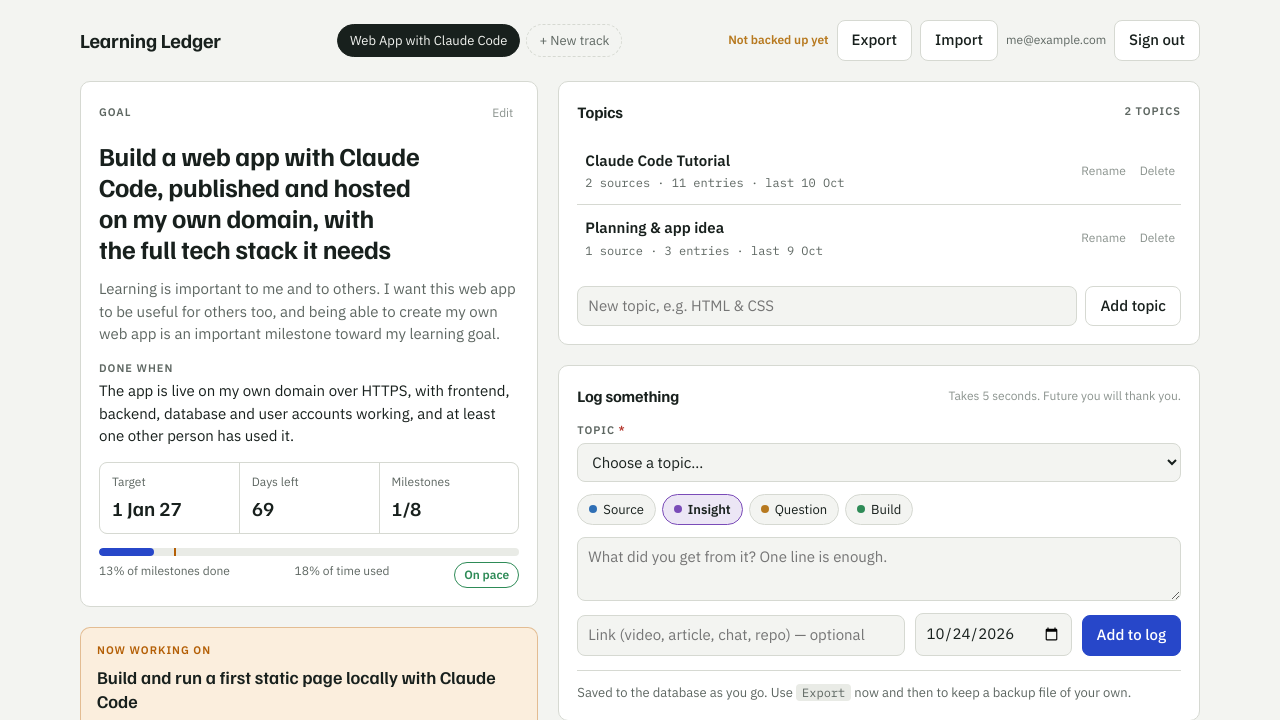
Test: Learning Ledger app › a write the server can't save shows a toast and leaves the screen unchanged
This screenshot has width=1280, height=720.
Expected: the heading "Build a web app with Claude Code" is shown, [99, 138, 419, 265]
Select "Planning & app idea" in the dropdown with id "addTopic" at (879, 462), box [577, 442, 1181, 482]
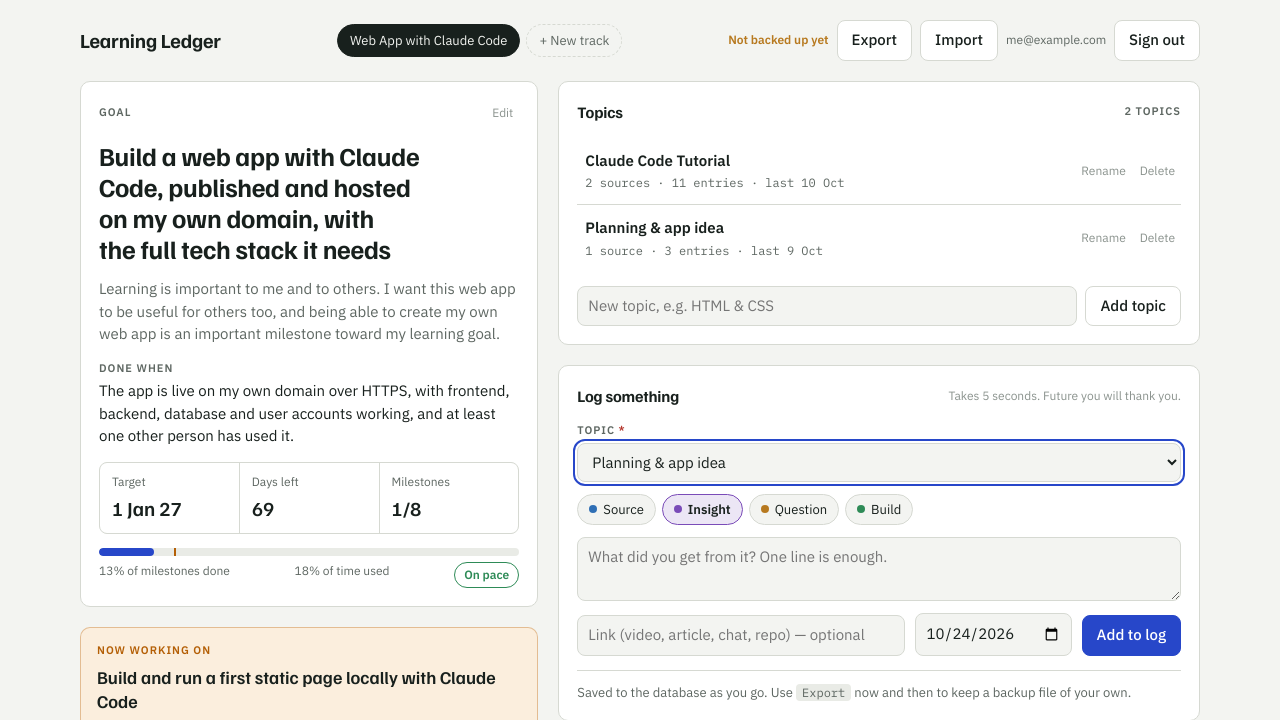
Type "Not saved" into the text box with id "addText" at (879, 569), box [577, 537, 1181, 601]
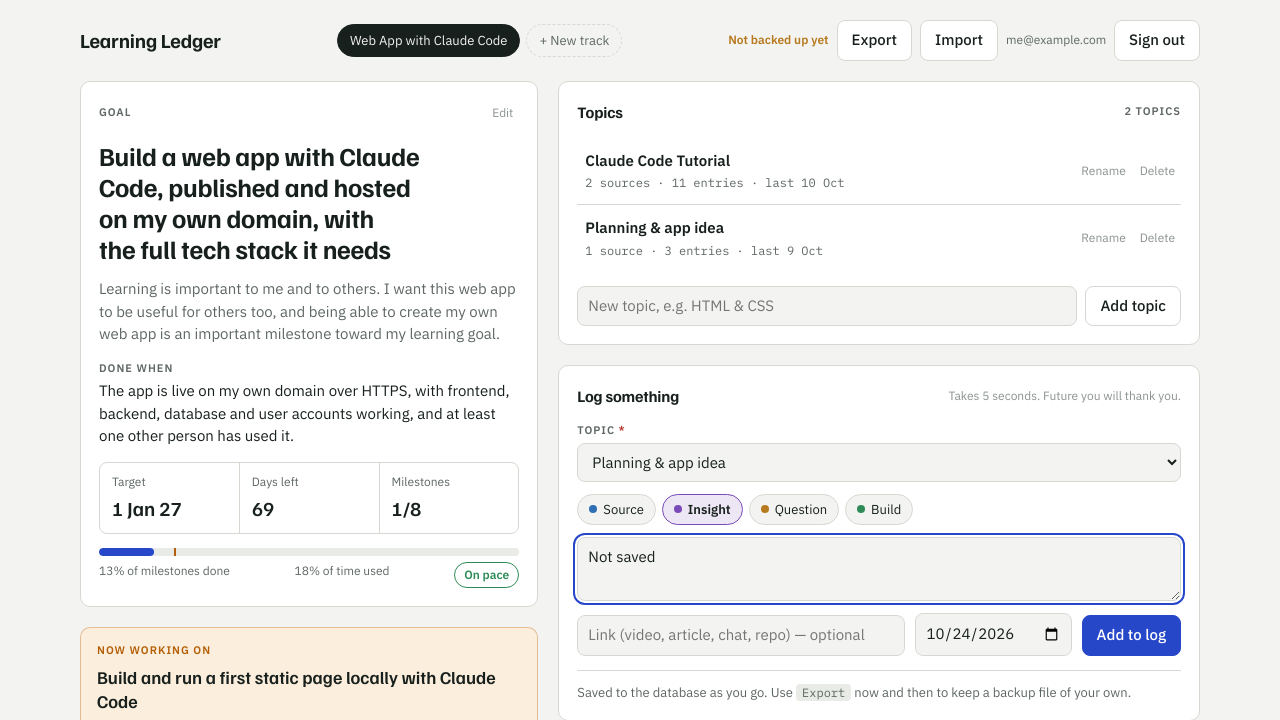
Click the button "Add to log" at (1131, 635), box [1082, 615, 1181, 656]
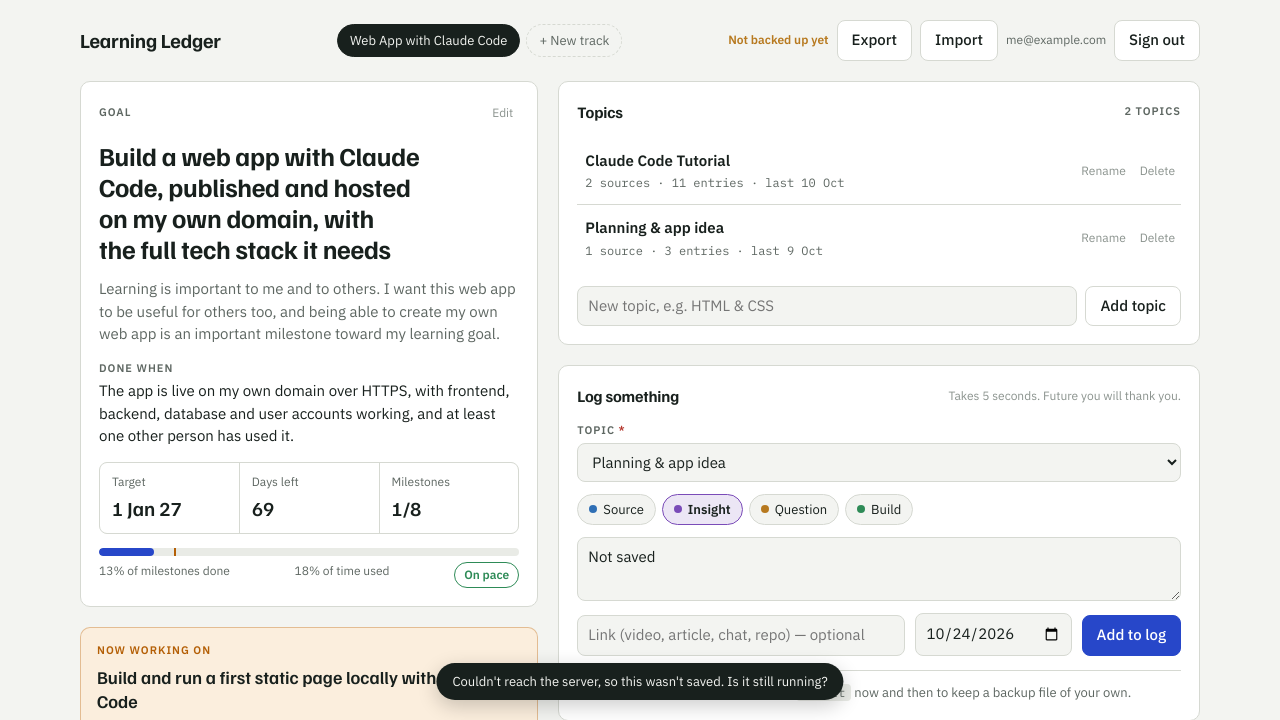
Expected: the message with id "toast" shows "Couldn't reach the server", [452, 672, 828, 690]
